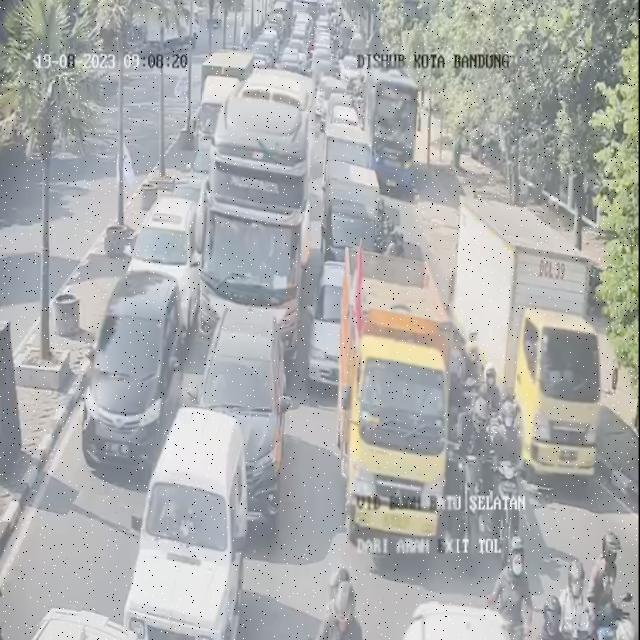bus: (368, 61, 416, 183)
cars: (134, 409, 254, 640), (188, 305, 287, 496), (90, 271, 186, 467), (517, 302, 605, 480), (321, 127, 381, 269), (134, 196, 200, 325), (307, 266, 359, 393), (385, 601, 532, 640), (1, 607, 156, 640), (320, 75, 347, 115), (317, 32, 337, 69), (284, 33, 304, 69), (345, 49, 363, 87), (312, 58, 336, 86)
motorcycle: (488, 537, 536, 638), (316, 564, 361, 639), (585, 544, 616, 640), (556, 555, 590, 638), (482, 361, 506, 461), (457, 338, 484, 420), (601, 524, 620, 596)
truck: (347, 252, 457, 569), (202, 81, 315, 356)
